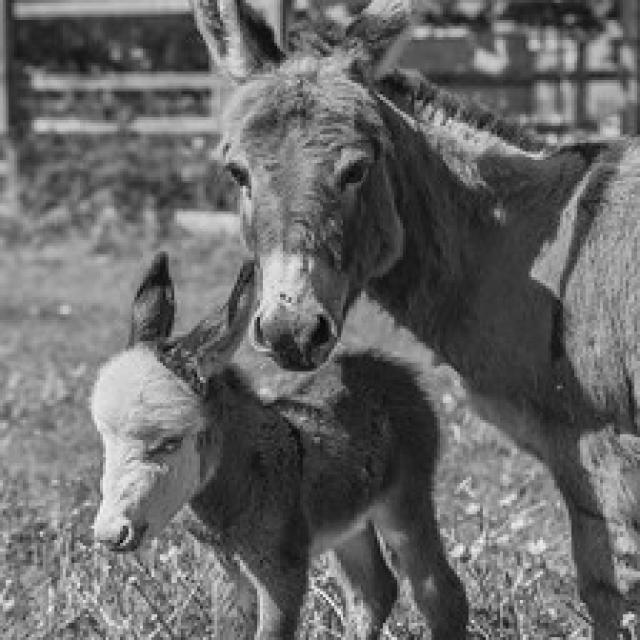Donkey: (183, 0, 637, 637), (86, 249, 471, 637)
